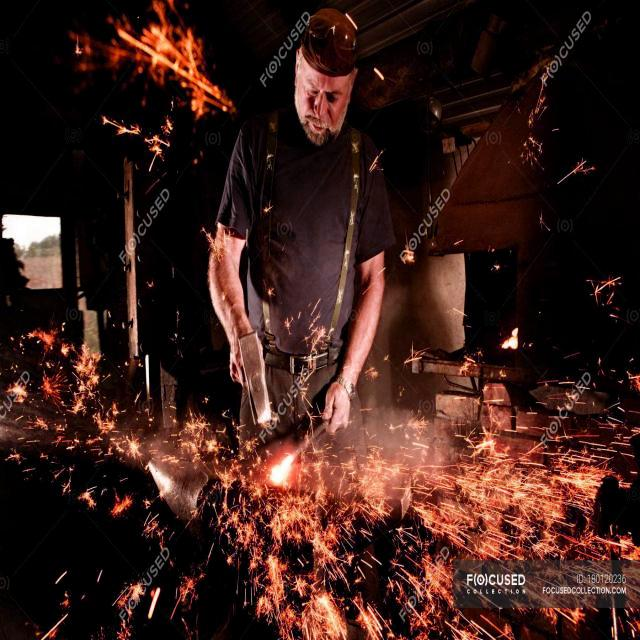hammer: (240, 321, 281, 440)
